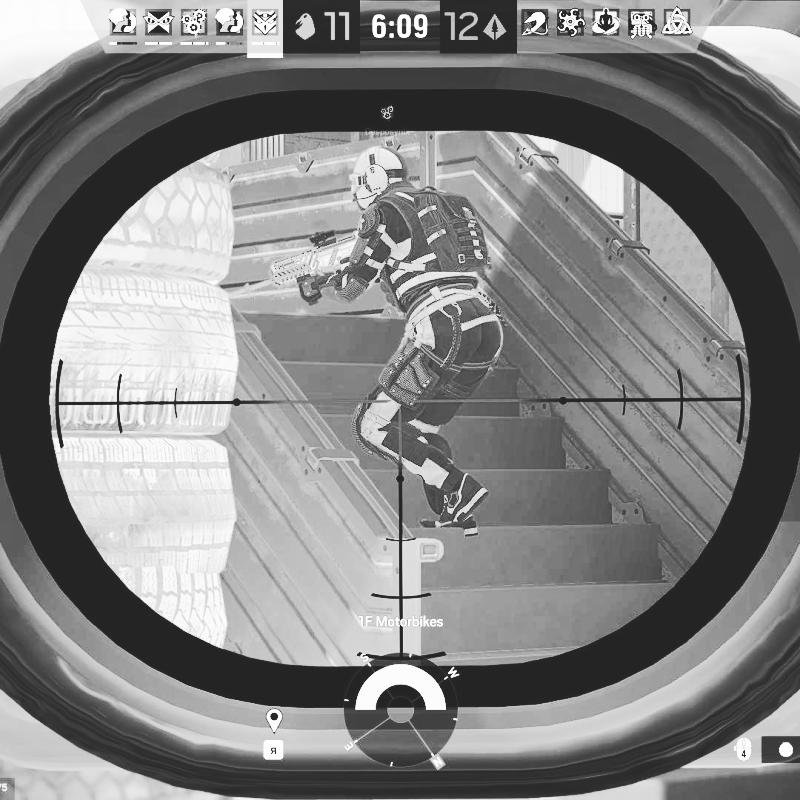Character: (266, 143, 507, 539)
Friend_label: (363, 101, 410, 140)
Head: (348, 147, 411, 216)
